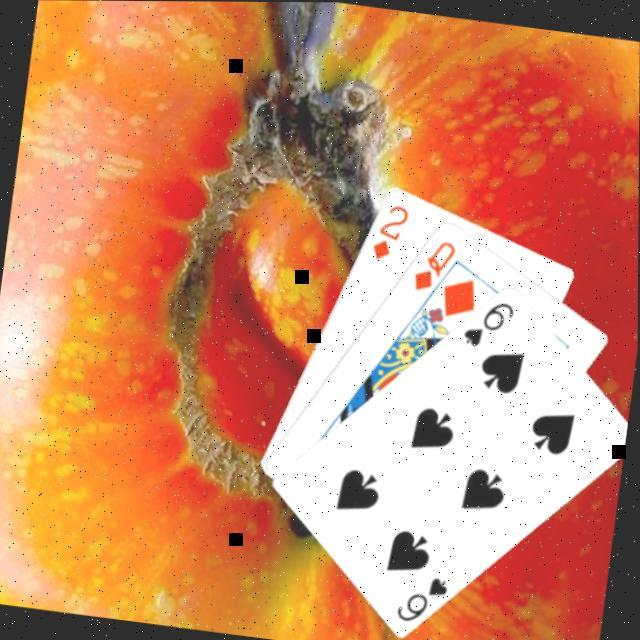2D: (365, 199, 411, 267)
6S: (390, 569, 451, 629), (456, 294, 516, 354)
QD: (406, 234, 457, 298)
